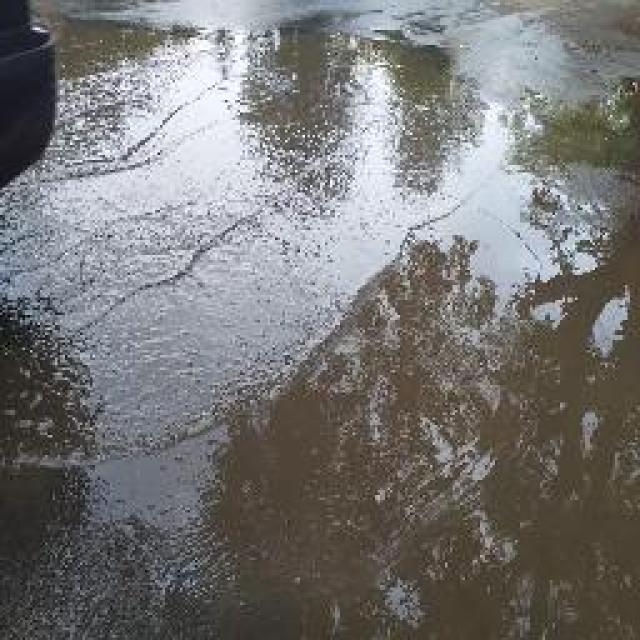puddle: (63, 17, 640, 640)
